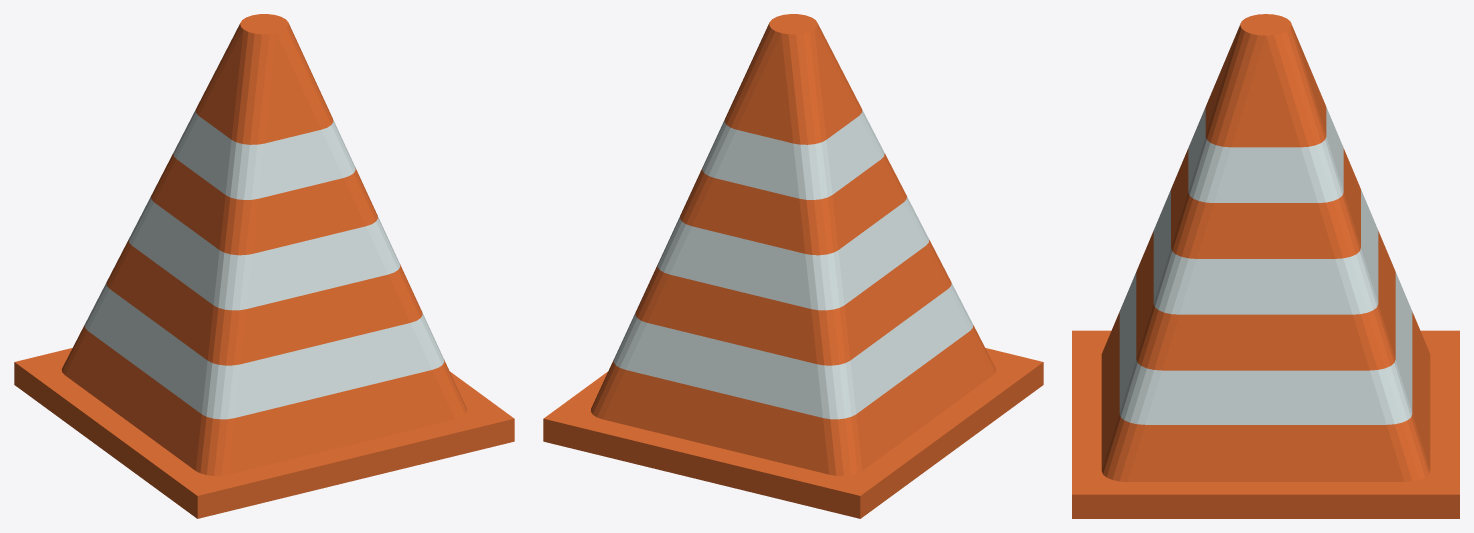
The model's file is TrafficCone2.fbx.
3 views of the same model, side by side, from view 1: azimuth 30°, elevation 25°; view 2: azimuth 150°, elevation 25°; view 3: azimuth 270°, elevation 25° (orthographic). The views are drawn at different scales.
Visible parts, largest first — view 1: Cube; view 2: Cube; view 3: Cube.
Boxes of the visible parts, x1=… form: Cube: x1=14, y1=14, x2=514, y2=518; Cube: x1=543, y1=14, x2=1043, y2=518; Cube: x1=1072, y1=14, x2=1459, y2=518.
Size of the model in its own units: 200 by 235 by 200.
